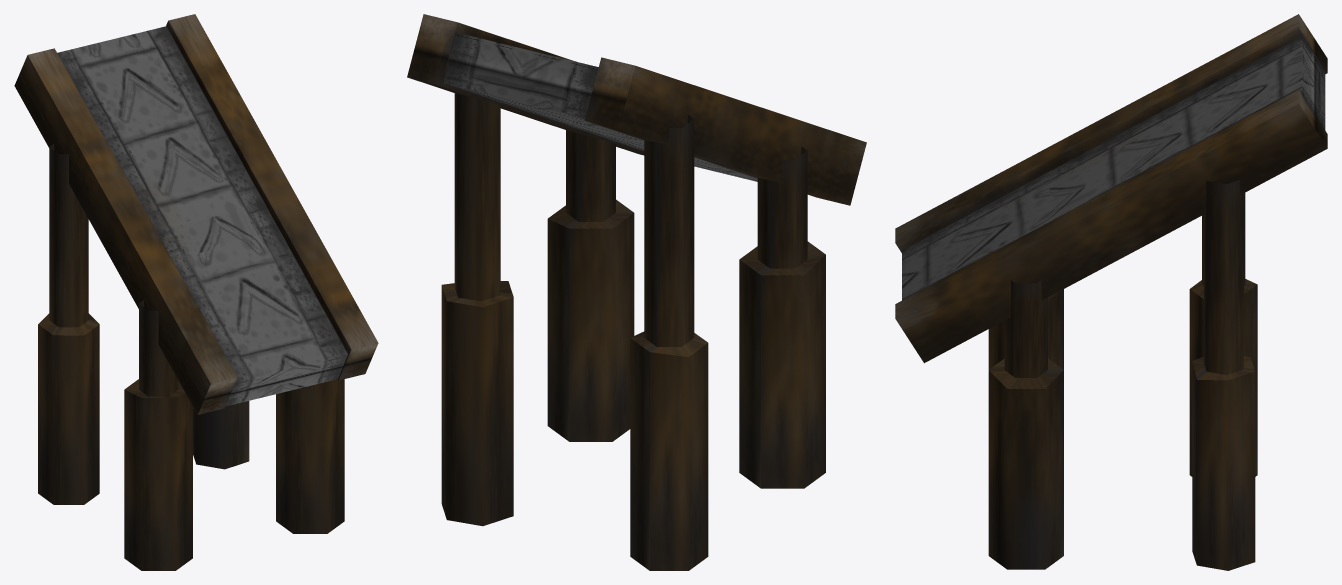
File: Conveyor_Elevetor.glb
3 views of the same model, side by side, from view 1: azimuth 30°, elevation 25°; view 2: azimuth 150°, elevation 25°; view 3: azimuth 270°, elevation 25° (orthographic). The views are drawn at different scales.
Parts seen in each view (by area): view 1: Cube.002, Cube.004, Cylinder, Cylinder.002, Cube.005, Cylinder.005, Cylinder.004; view 2: Cylinder, Cylinder.004, Cylinder.002, Cylinder.005, Cube.004, Cube.002, Cube.005; view 3: Cube.005, Cube.002, Cylinder.004, Cylinder.005, Cube.004, Cylinder, Cylinder.002.
Part boxes in pixels (x1,y1,x2,y2): Cube.002: [57, 26, 348, 406]; Cube.004: [14, 48, 237, 414]; Cylinder: [38, 143, 99, 504]; Cylinder.002: [124, 300, 192, 570]; Cube.005: [166, 14, 378, 380]; Cylinder.005: [276, 379, 344, 533]; Cylinder.004: [193, 401, 249, 469]; Cylinder: [630, 114, 708, 570]; Cylinder.004: [441, 93, 513, 526]; Cylinder.002: [739, 146, 825, 488]; Cylinder.005: [547, 130, 634, 441]; Cube.004: [585, 57, 866, 205]; Cube.002: [442, 32, 757, 181]; Cube.005: [407, 14, 644, 155]; Cube.005: [895, 89, 1327, 363]; Cube.002: [902, 36, 1325, 300]; Cylinder.004: [1192, 180, 1255, 570]; Cylinder.005: [988, 280, 1063, 569]; Cube.004: [895, 14, 1327, 252]; Cylinder: [1189, 193, 1257, 476]; Cylinder.002: [988, 289, 1063, 369].
Size of the model in its own units: 1.19 by 2.32 by 1.99.
2 materials, 2 textured.
